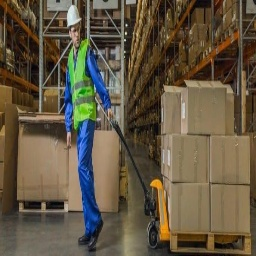helmet: (65, 4, 81, 34)
person: (63, 3, 112, 248)
vest: (65, 38, 105, 130)
